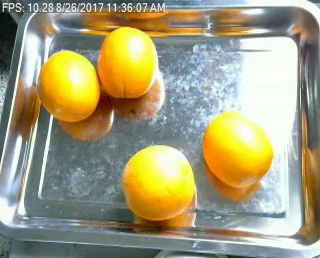Orange: (121, 143, 196, 219), (202, 111, 272, 186), (36, 49, 99, 121), (98, 27, 158, 99)
